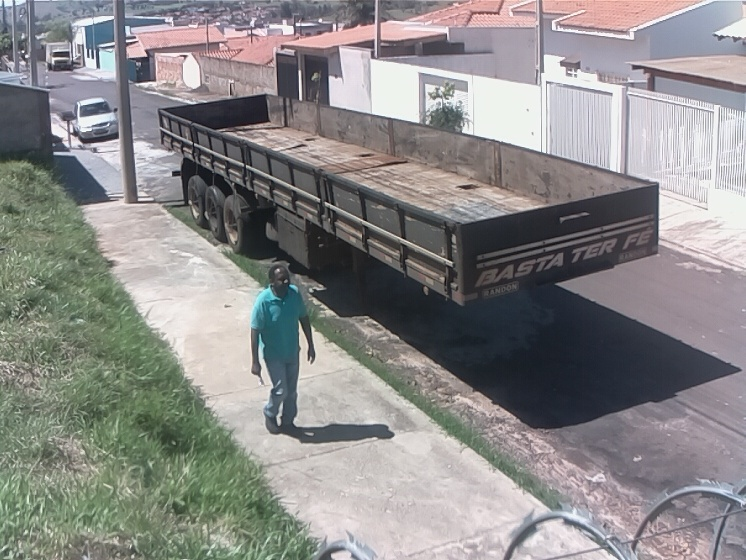person: (246, 262, 321, 437)
